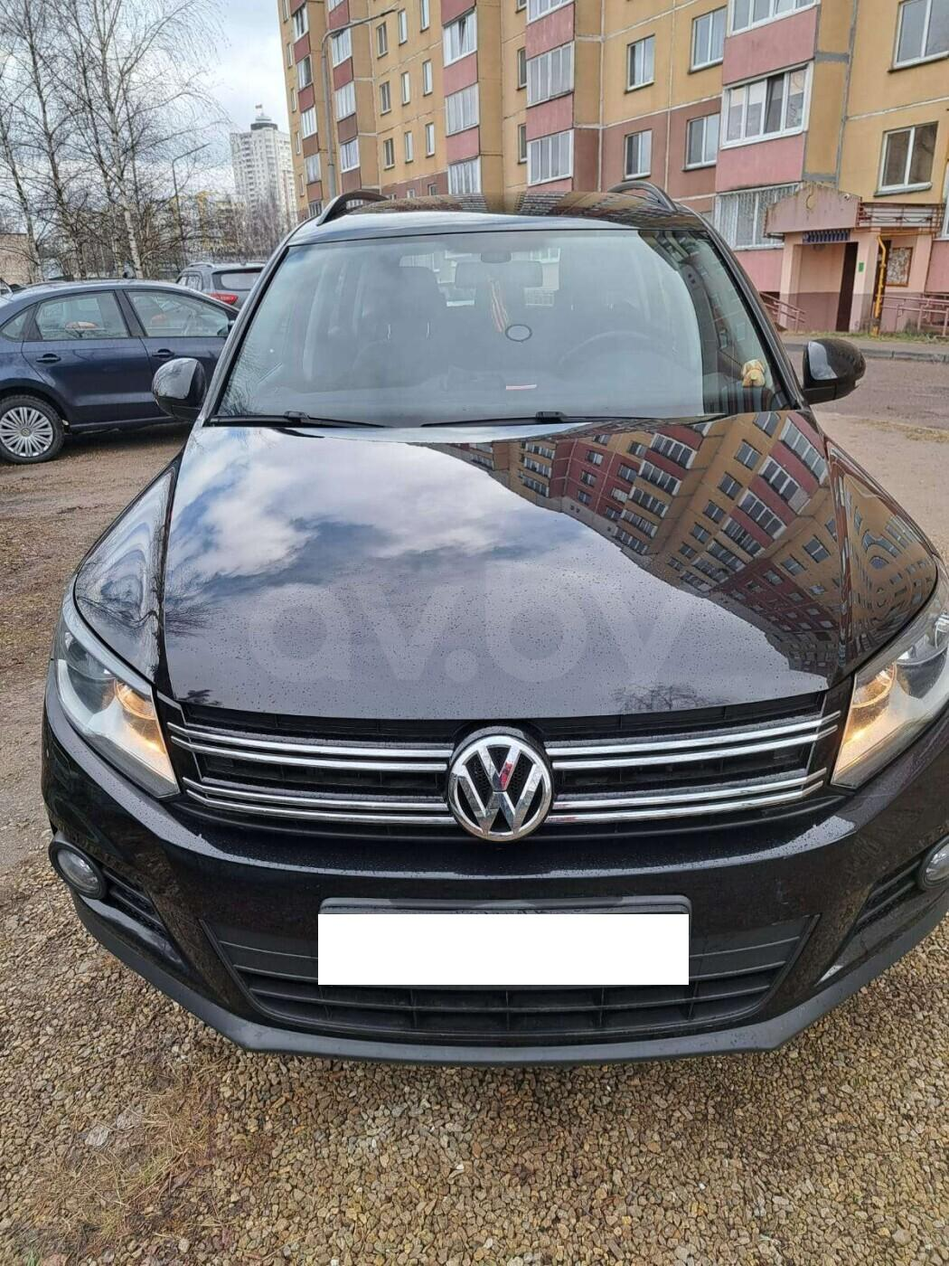Tiguan_2011-2018: (49, 184, 949, 1060)
